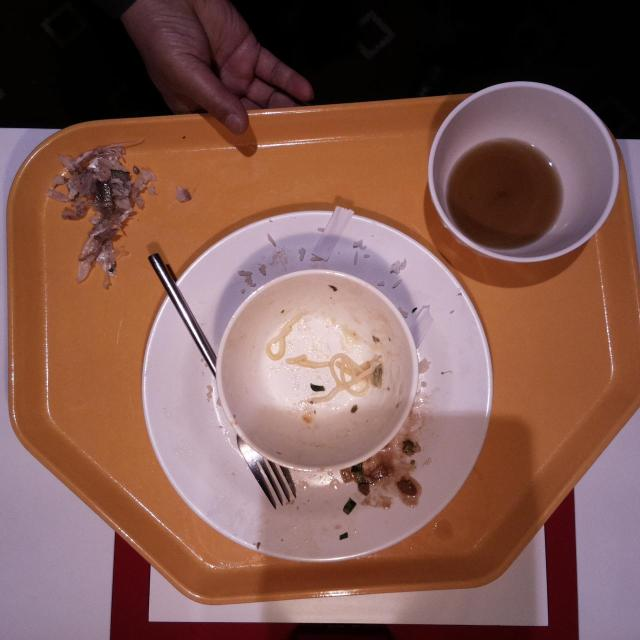Bone-fish: (53, 144, 131, 284)
Noodle: (330, 350, 380, 398)
